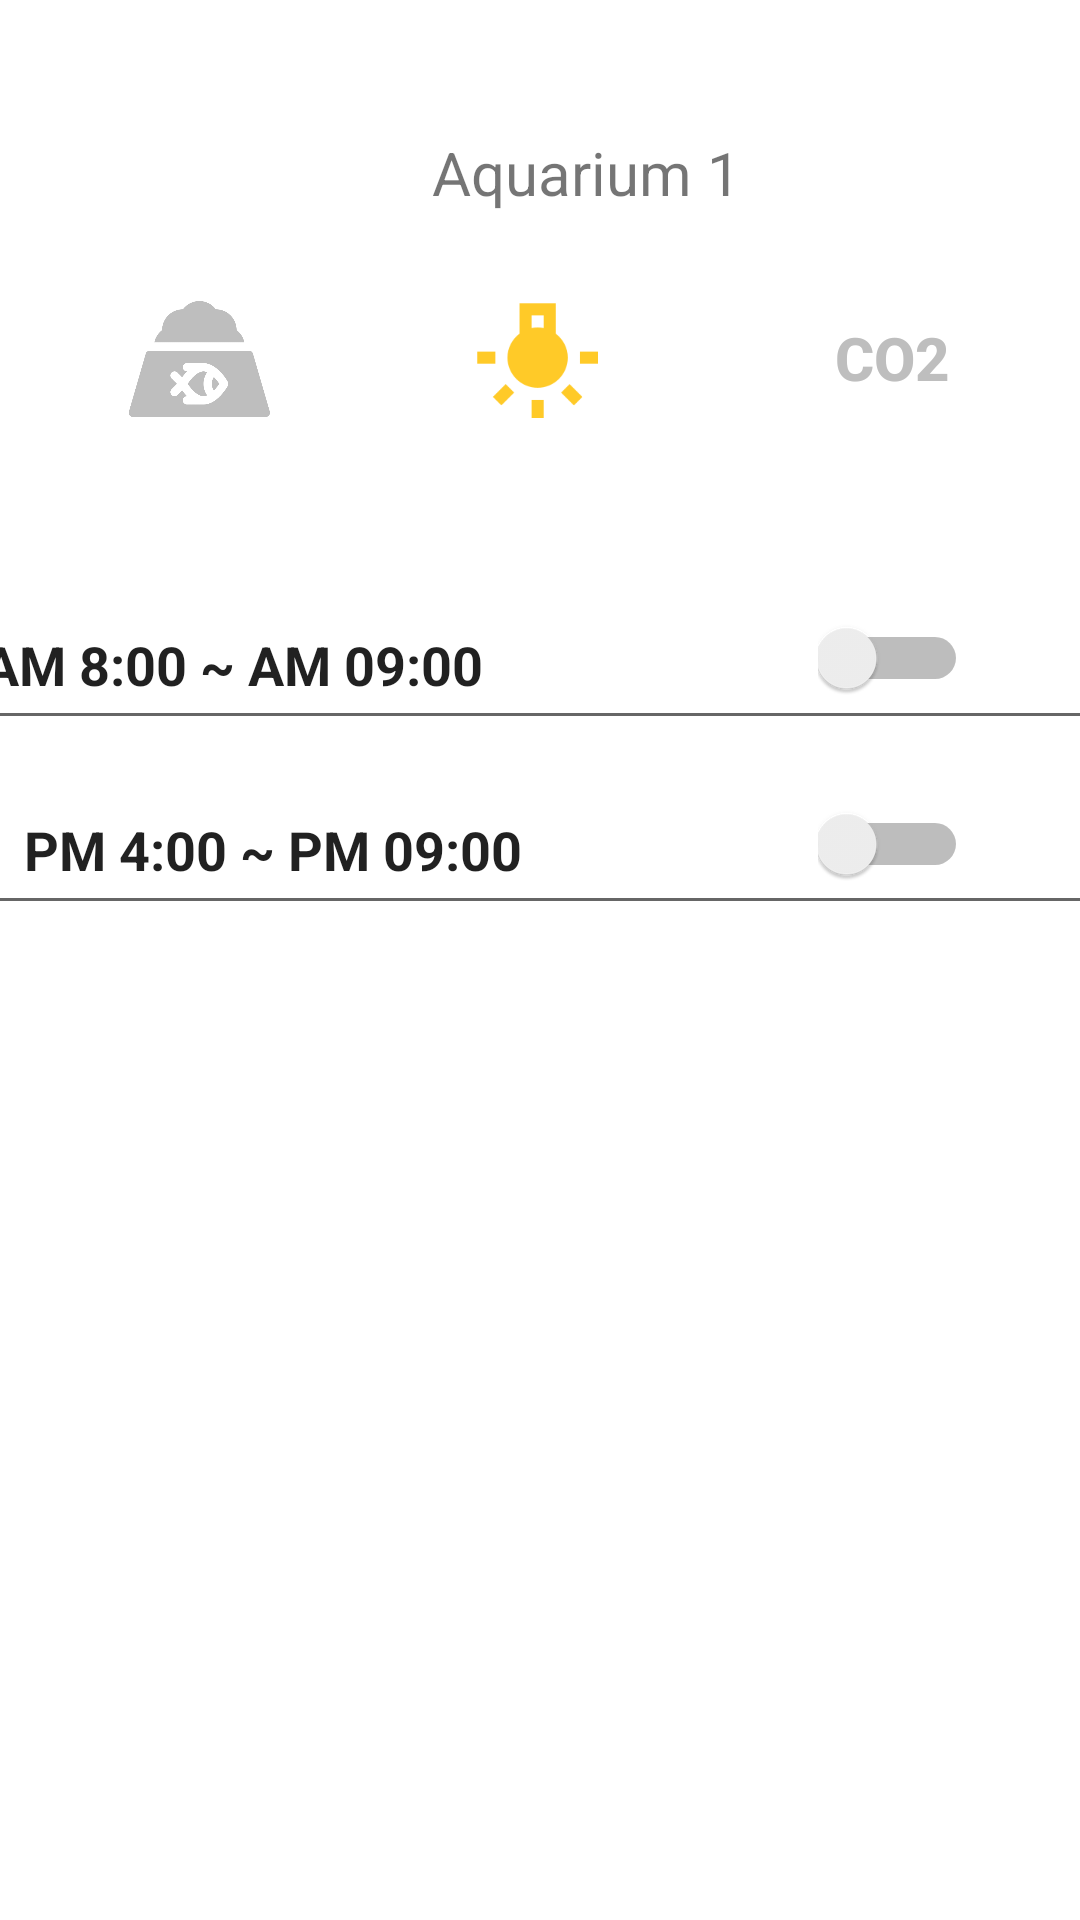

Point at icon controls on the screen. Image size 1080px×1920px, points as (x,y).
feeding: (199,359)
led: (537,360)
